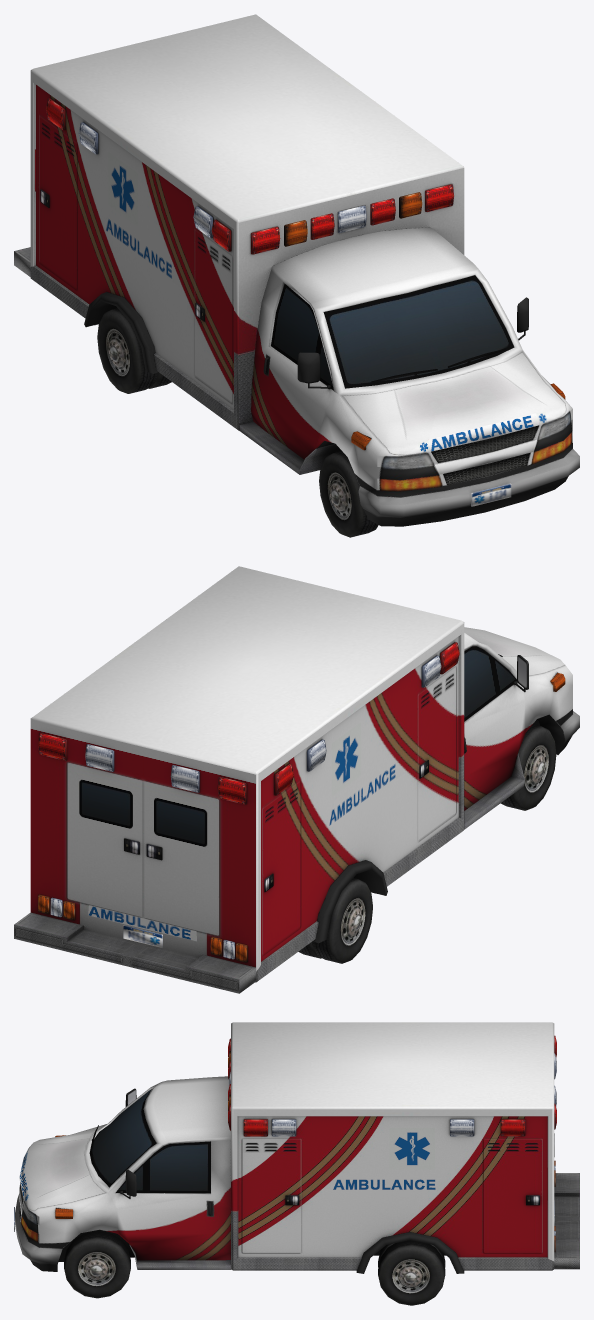
File: Ambulance.fbx
The picture shows the model from 3 angles, top to bottom: view 1: azimuth 30°, elevation 25°; view 2: azimuth 150°, elevation 25°; view 3: azimuth 270°, elevation 25°; orthographic projection. The views are drawn at different scales.
Parts seen in each view (by area): view 1: Ambulance_body, Ambulance_BR_wheel, Ambulance_FR_wheel, Ambulance_FR_light, Ambulance_FL_light; view 2: Ambulance_body, Ambulance_BR_wheel, Ambulance_FR_wheel, Ambulance_Light3, Ambulance_Lgiht01, Ambulance_Light04, Ambulance_Light02; view 3: Ambulance_body, Ambulance_BL_wheel, Ambulance_FL_wheel, Ambulance_Light20, Ambulance_Light05, Ambulance_Light07, Ambulance_Light06.
Boxes of the visible parts, box(x1,y1,x2,y2) form: Ambulance_body: box(14, 14, 579, 526); Ambulance_BR_wheel: box(97, 308, 171, 393); Ambulance_FR_wheel: box(319, 451, 378, 537); Ambulance_FR_light: box(377, 451, 446, 490); Ambulance_FL_light: box(528, 409, 572, 465); Ambulance_body: box(14, 566, 579, 993); Ambulance_BR_wheel: box(298, 878, 372, 963); Ambulance_FR_wheel: box(500, 724, 556, 810); Ambulance_Light3: box(38, 733, 67, 760); Ambulance_Lgiht01: box(217, 776, 246, 804); Ambulance_Light04: box(85, 744, 114, 771); Ambulance_Light02: box(170, 765, 199, 792); Ambulance_body: box(14, 1022, 579, 1273); Ambulance_BL_wheel: box(378, 1240, 445, 1305); Ambulance_FL_wheel: box(64, 1231, 130, 1298); Ambulance_Light20: box(500, 1119, 525, 1136); Ambulance_Light05: box(243, 1119, 267, 1136); Ambulance_Light07: box(272, 1119, 296, 1136); Ambulance_Light06: box(450, 1119, 474, 1136).
Size of the model in its own units: 253 by 250 by 648.
